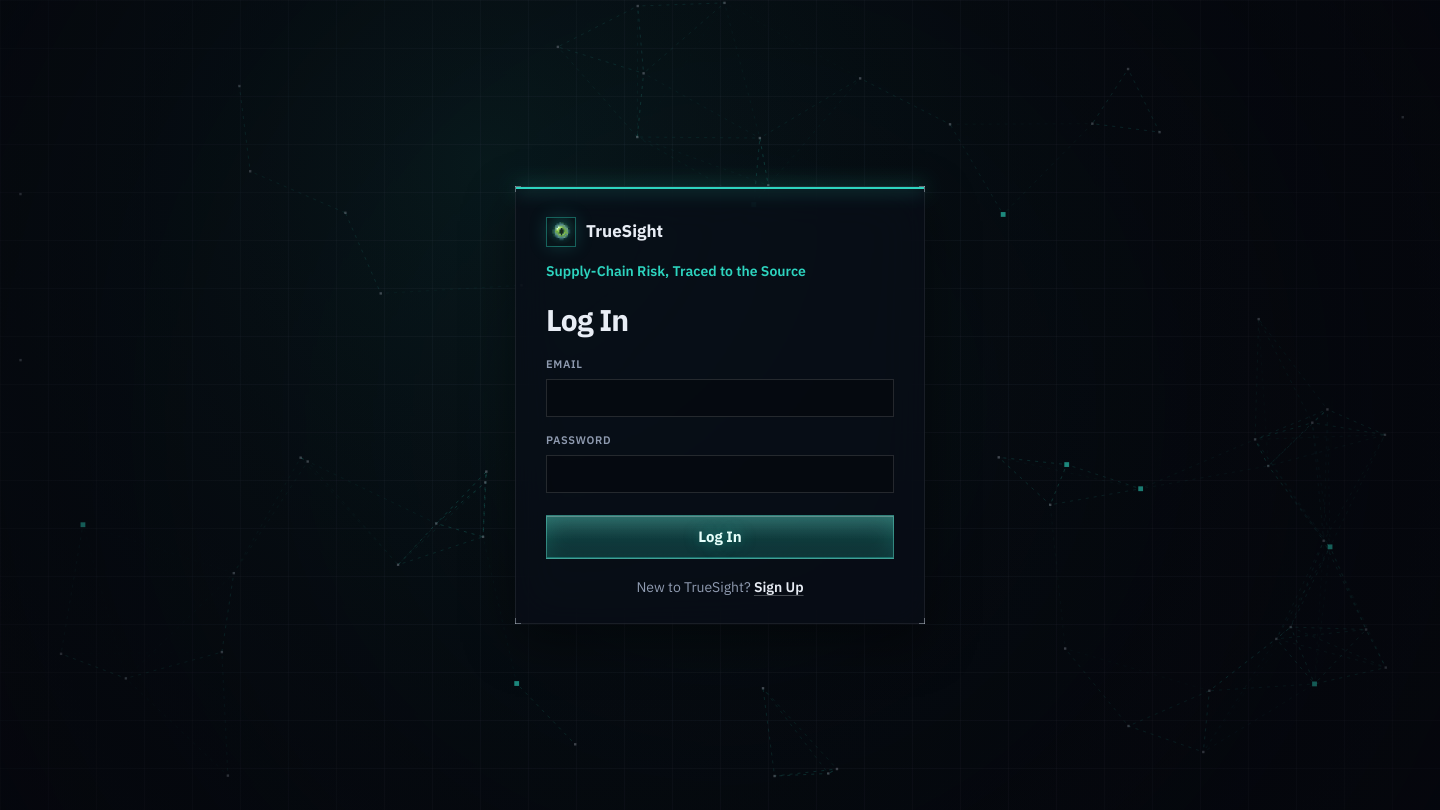
Test: Log In › shows a refused log in in the same style as a field error, announced to screen readers
Type "pm@example.com" into the field labelled "Email" at (720, 398), box [546,379,894,417]
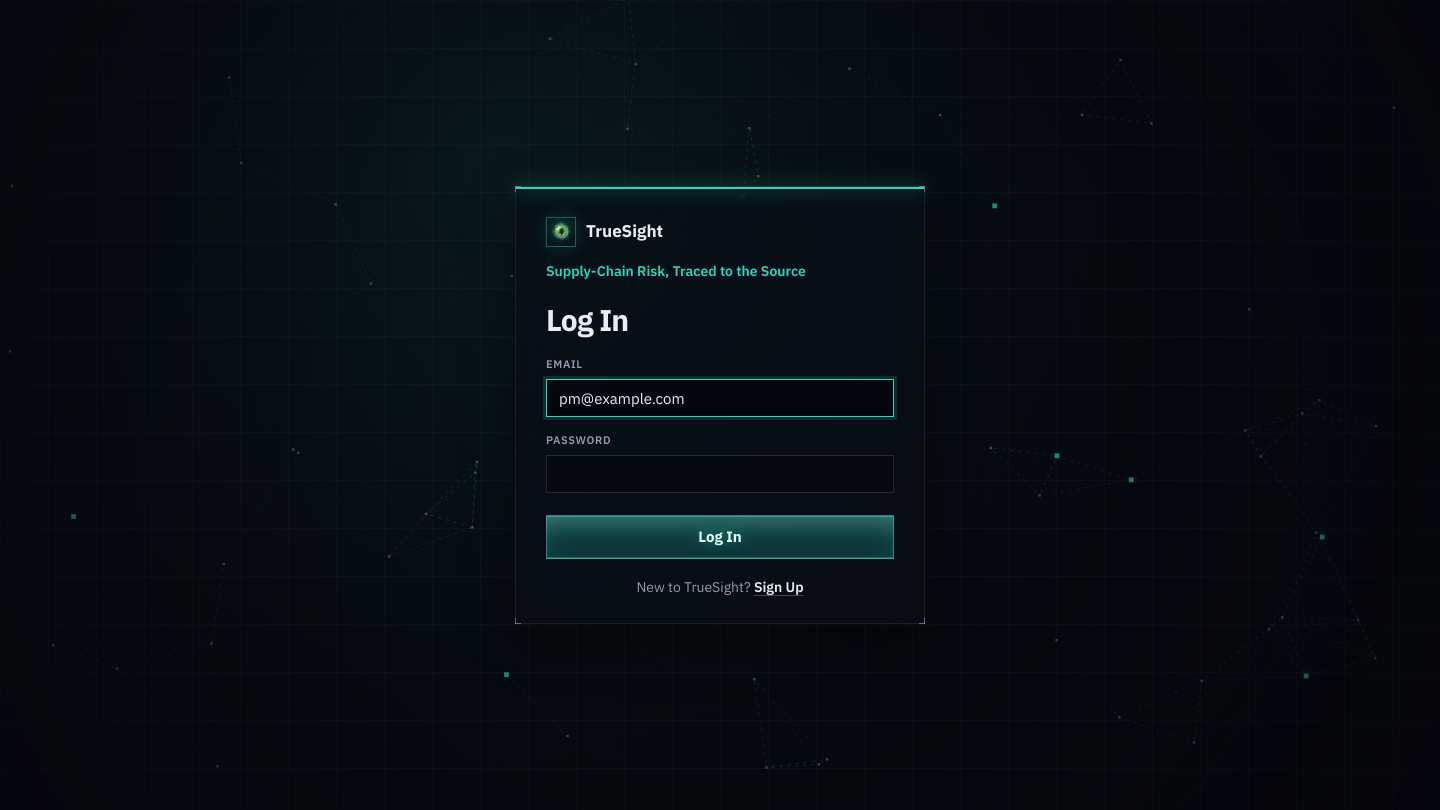
Type "wrong-password" into the password field labelled "Password" at (720, 474), box [546,455,894,493]
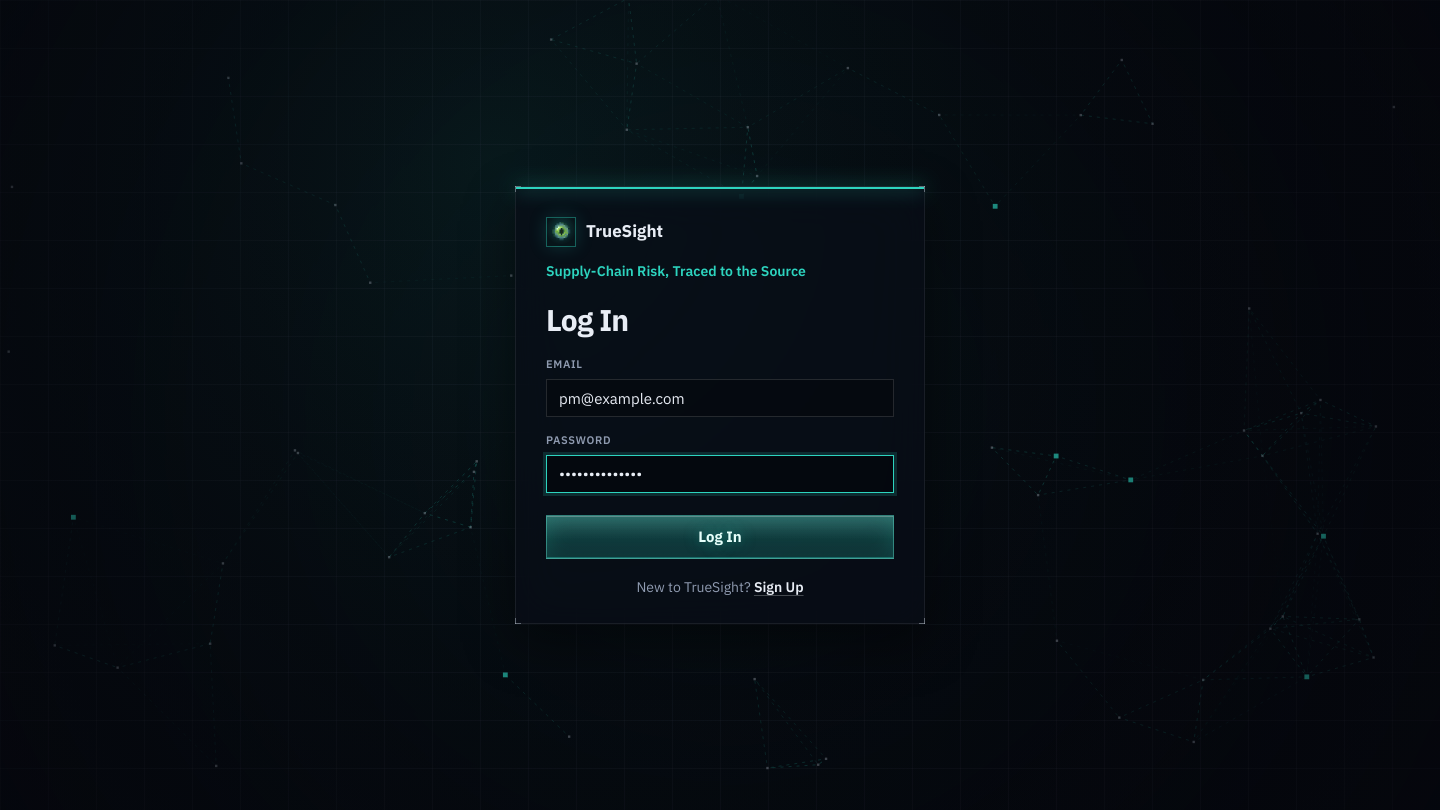
Click the button "Log In" at (720, 537), box [546,515,894,559]
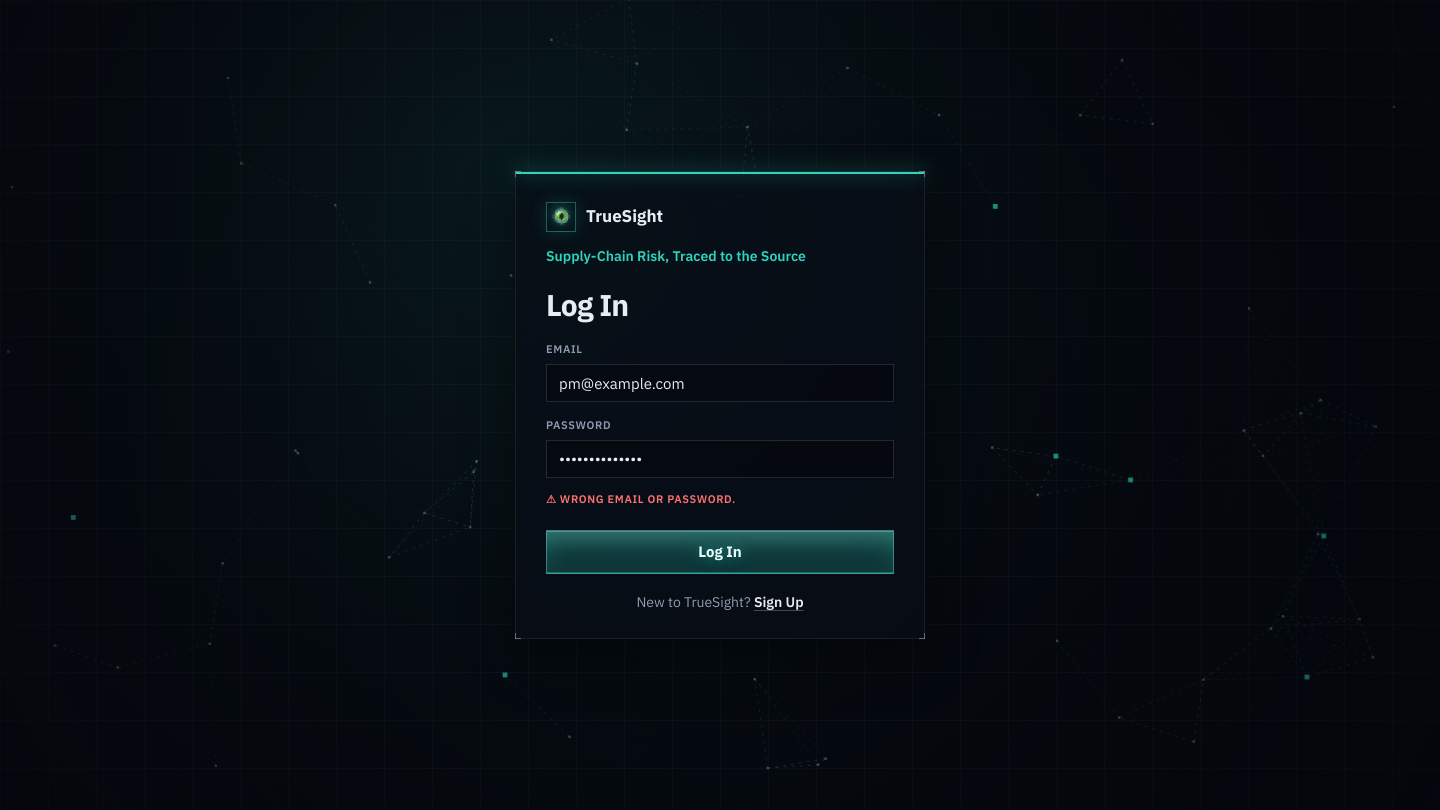
Expected: the message shows "Wrong email or password.", [560,492,736,506]
